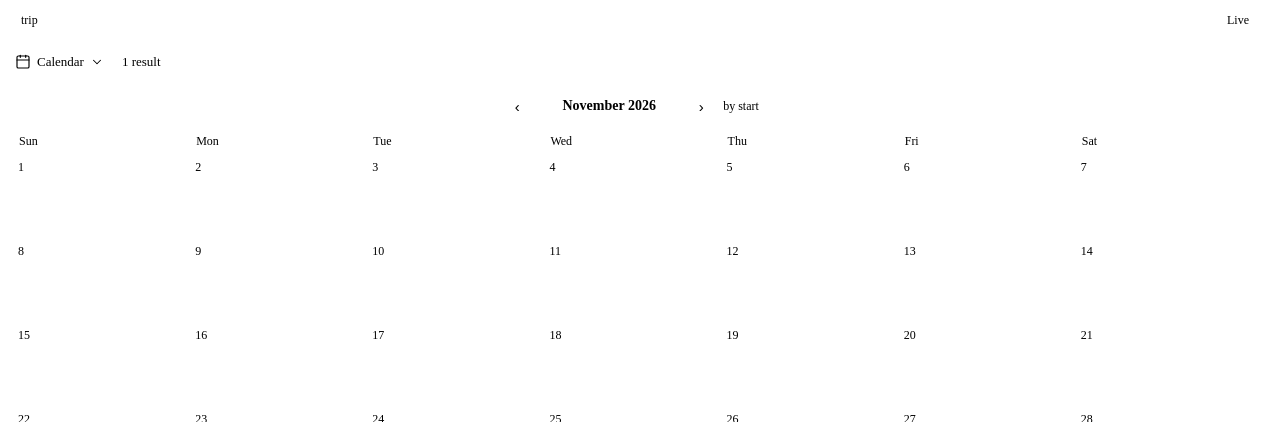
Test: calendar time zone from the host (#574) › takes days in the zone the host passes
The width and height of the screenshot is (1266, 439).
Click the button named "Previous month". click: [517, 106]
box: [503,92,531,120]
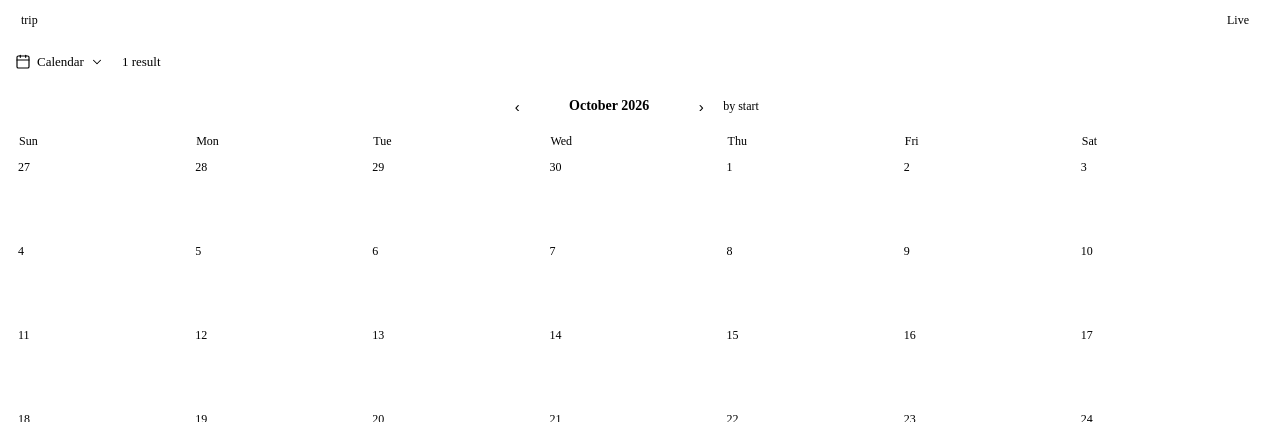
Click the button named "Previous month". click: [517, 106]
box: [503,92,531,120]
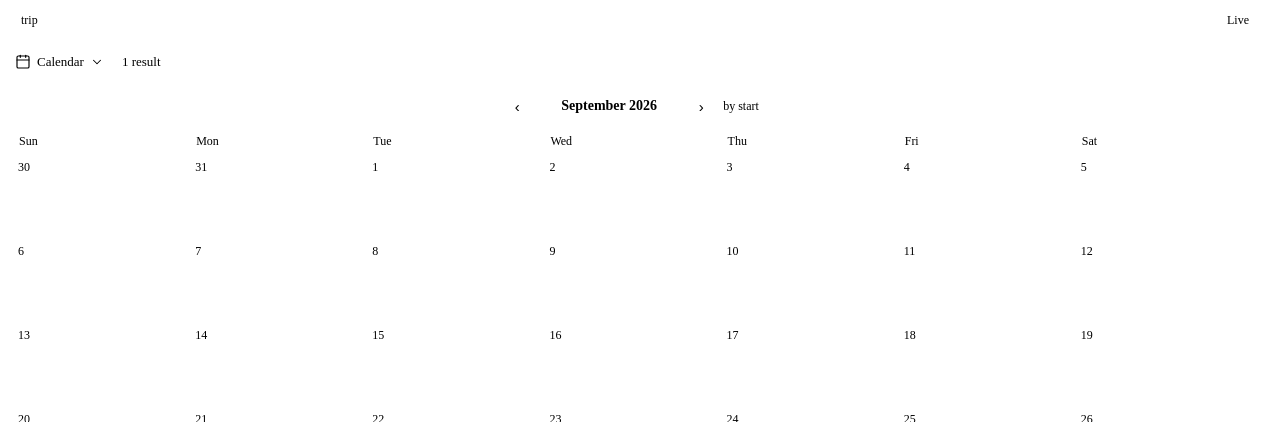
Click the button named "Previous month". click: [517, 106]
box: [503,92,531,120]
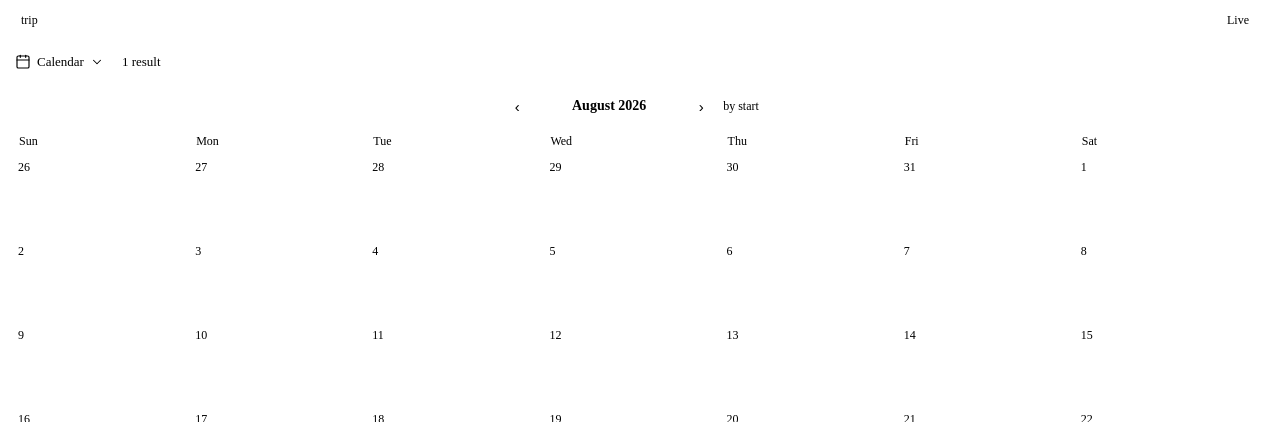
Click the button named "Previous month". click: [517, 106]
box: [503,92,531,120]
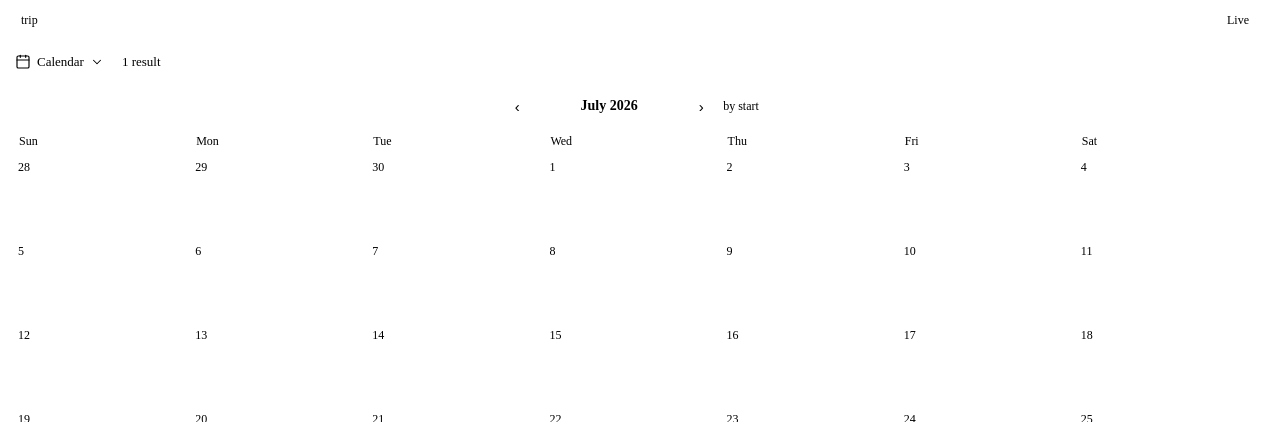
Click the button named "Previous month". click: [517, 106]
box: [503,92,531,120]
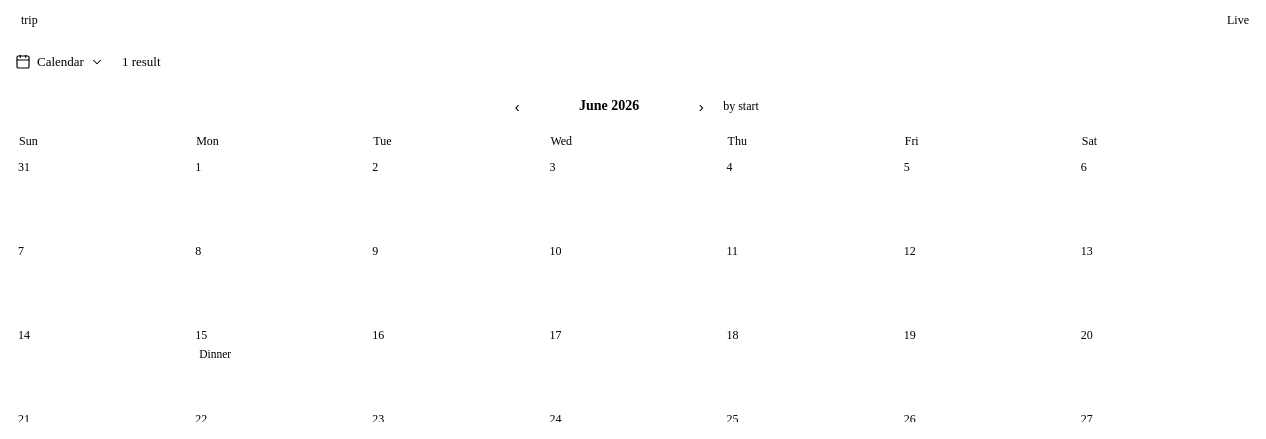
Now the text with class "cal-month" reads "June 2026", box [579,98,639,113]
